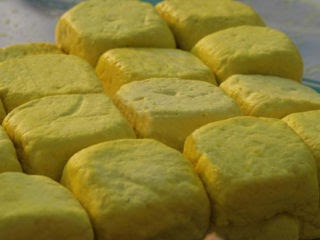Tahu: (76, 134, 196, 240), (197, 108, 298, 219), (47, 83, 124, 162), (103, 41, 201, 97), (133, 74, 220, 135), (51, 4, 178, 44), (214, 24, 299, 74), (221, 74, 317, 114), (18, 51, 89, 104), (168, 5, 262, 33)
